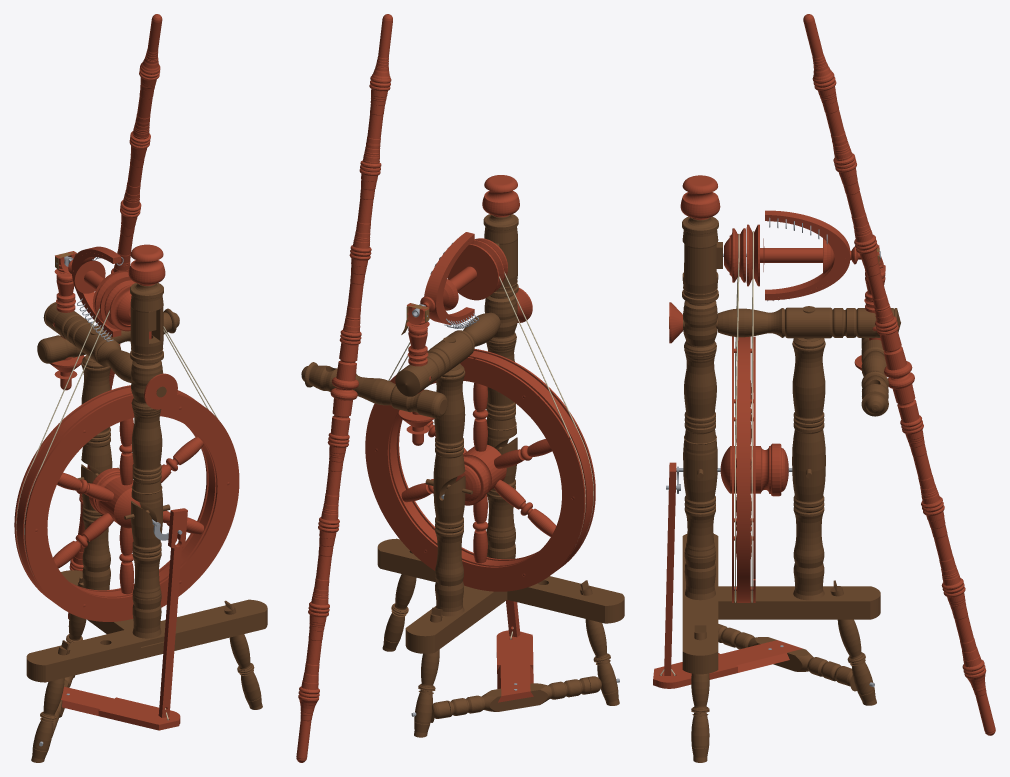
3 renders of one model, left to right at view 1: azimuth 30°, elevation 25°; view 2: azimuth 150°, elevation 25°; view 3: azimuth 270°, elevation 25°, orthographic. The views are drawn at different scales.
Parts seen in each view (by area): view 1: Frame_Assembly_Main_Pillar, Frame_Assembly_Base_Plank_1, Frame_Assembly_Wool_Bar, Frame_Assembly_Secondary_Pillar, Wheel_Assembly_Wheel_Plank_4, Wheel_Assembly_Wheel_Plank_1, Wheel_Assembly_Wheel_Plank_5, Wheel_Assembly_Wheel_Plank_2, Frame_Assembly_Main_Holder, Frame_Assembly_Footman, Frame_Assembly_Treadle_Pedal, Wheel_Assembly_Wheel_Plank_3 (+19 smaller); view 2: Frame_Assembly_Wool_Bar, Frame_Assembly_Secondary_Pillar, Frame_Assembly_Main_Pillar, Frame_Assembly_Base_Plank_1, Wheel_Assembly_Wheel_Plank_4, Wheel_Assembly_Wheel_Plank_1, Wheel_Assembly_Wheel_Plank_5, Frame_Assembly_Main_Holder, Frame_Assembly_Base_Plank_2, Frame_Assembly_Wool_Carrier, Frame_Assembly_Treadle_Axle, Flyer_Assembly_Bobbin (+16 smaller); view 3: Frame_Assembly_Wool_Bar, Frame_Assembly_Main_Pillar, Frame_Assembly_Secondary_Pillar, Frame_Assembly_Base_Plank_2, Frame_Assembly_Main_Holder, Frame_Assembly_Base_Plank_1, Flyer_Assembly_Flyer, Wheel_Assembly_Wheel_Plank_2, Frame_Assembly_Treadle_Pedal, Wheel_Assembly_Hub, Frame_Assembly_Treadle_Axle, Flyer_Assembly_Bobbin (+9 smaller).
Boxes of the visible parts, box(x1,y1,x2,y2) form: Frame_Assembly_Main_Pillar: box(130, 283, 163, 638); Frame_Assembly_Base_Plank_1: box(26, 599, 267, 682); Frame_Assembly_Wool_Bar: box(68, 14, 162, 619); Frame_Assembly_Secondary_Pillar: box(81, 329, 112, 590); Wheel_Assembly_Wheel_Plank_4: box(15, 408, 96, 539); Wheel_Assembly_Wheel_Plank_1: box(159, 473, 238, 596); Wheel_Assembly_Wheel_Plank_5: box(14, 515, 92, 613); Wheel_Assembly_Wheel_Plank_2: box(177, 391, 239, 493); Frame_Assembly_Main_Holder: box(43, 302, 166, 397); Frame_Assembly_Footman: box(158, 508, 187, 717); Frame_Assembly_Treadle_Pedal: box(61, 686, 180, 730); Wheel_Assembly_Wheel_Plank_3: box(64, 385, 193, 434); Frame_Assembly_Wool_Bar: box(296, 14, 392, 762); Frame_Assembly_Secondary_Pillar: box(433, 337, 465, 616); Frame_Assembly_Main_Pillar: box(483, 214, 518, 559); Frame_Assembly_Base_Plank_1: box(377, 538, 624, 623); Wheel_Assembly_Wheel_Plank_4: box(512, 373, 595, 507); Wheel_Assembly_Wheel_Plank_1: box(365, 439, 437, 566); Wheel_Assembly_Wheel_Plank_5: box(515, 483, 595, 582); Frame_Assembly_Main_Holder: box(395, 312, 500, 396); Frame_Assembly_Base_Plank_2: box(405, 585, 507, 653); Frame_Assembly_Wool_Carrier: box(301, 362, 447, 418); Frame_Assembly_Treadle_Axle: box(430, 676, 601, 722); Flyer_Assembly_Bobbin: box(443, 240, 504, 310); Frame_Assembly_Wool_Bar: box(803, 14, 995, 735); Frame_Assembly_Main_Pillar: box(682, 216, 718, 600); Frame_Assembly_Secondary_Pillar: box(792, 306, 825, 600); Frame_Assembly_Base_Plank_2: box(718, 586, 880, 619); Frame_Assembly_Main_Holder: box(669, 307, 900, 338); Frame_Assembly_Base_Plank_1: box(682, 534, 718, 674); Flyer_Assembly_Flyer: box(765, 210, 861, 300); Wheel_Assembly_Wheel_Plank_2: box(732, 384, 755, 536); Frame_Assembly_Treadle_Pedal: box(653, 640, 802, 688); Wheel_Assembly_Hub: box(720, 443, 788, 496); Frame_Assembly_Treadle_Axle: box(718, 624, 856, 691); Flyer_Assembly_Bobbin: box(746, 224, 834, 286).
Bounding box in the file's own units: 16.93 × 45.85 × 19.76.
